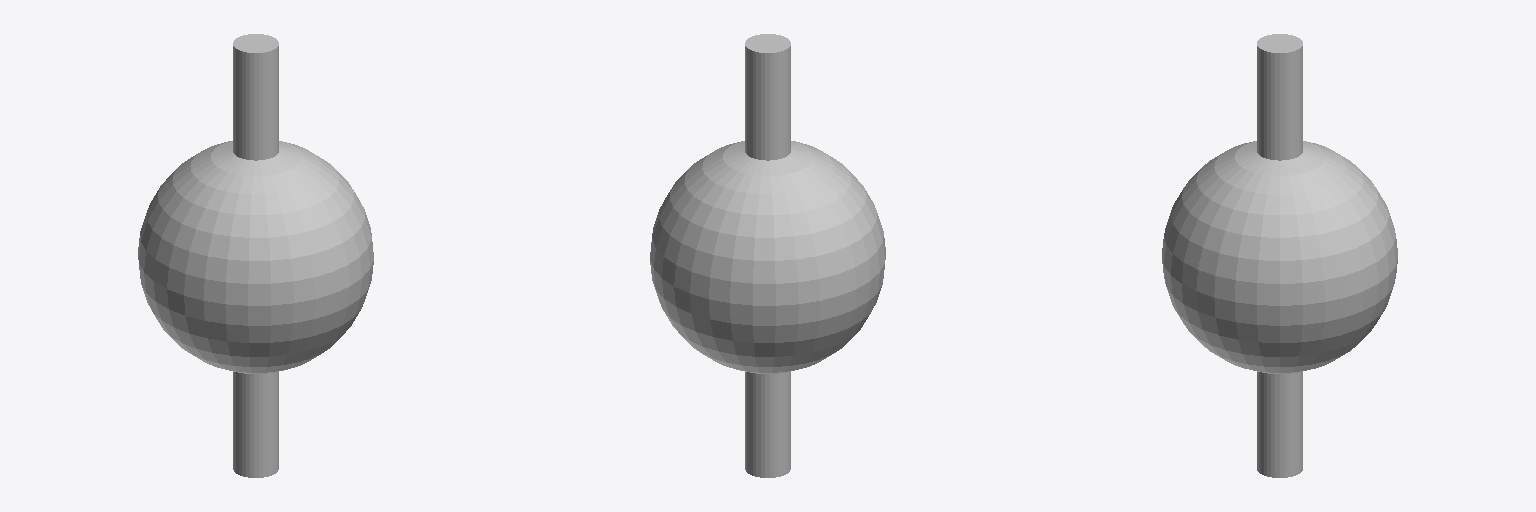
Rendered from camera.obj.
3 renders of one model, left to right at view 1: azimuth 30°, elevation 25°; view 2: azimuth 150°, elevation 25°; view 3: azimuth 270°, elevation 25°, orthographic.
Visible parts, largest first — view 1: Sphere; view 2: Sphere; view 3: Sphere.
Boxes of the visible parts, x1=… form: Sphere: x1=138, y1=34, x2=373, y2=477; Sphere: x1=650, y1=34, x2=885, y2=477; Sphere: x1=1162, y1=34, x2=1397, y2=477.
Bounding box in the file's own units: 2 × 3.96 × 2.